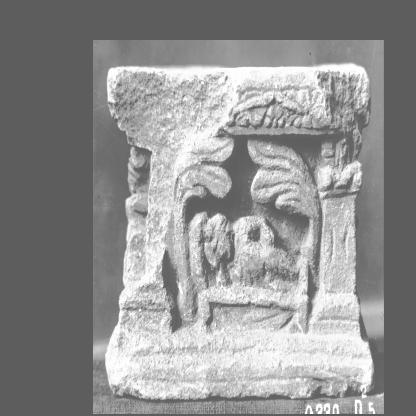buddha-sleeping: (190, 211, 310, 331)
